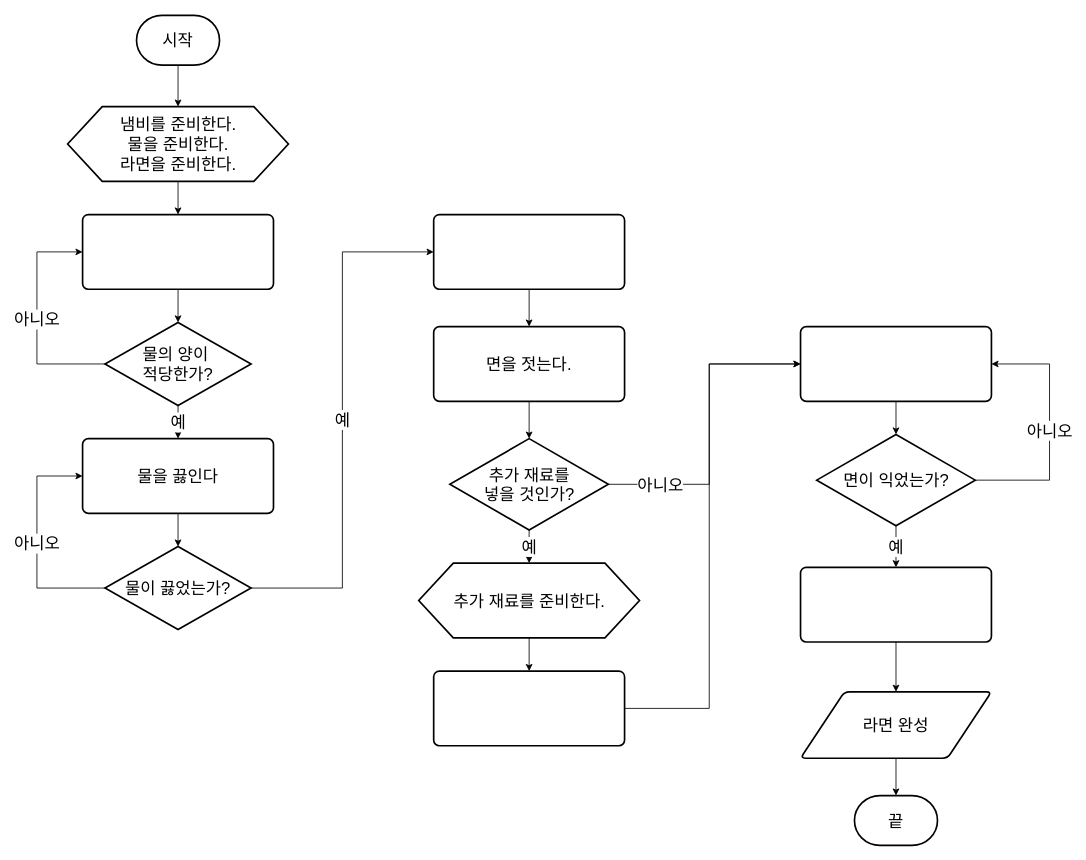
The diagram is 1086 pixels wide and 860 high, and some of its shapes have lost their labels. Each missing label, with the centre of its shape:
"냄비에 물을 넣는다." goes at (177,251).
"라면과 스프를 넣는다." goes at (528,251).
"라면을 그릇에 담는다." goes at (895,604).
"면이 익기를 기다린다." goes at (895,363).
"추가 재료를 넣는다." goes at (528,708).
